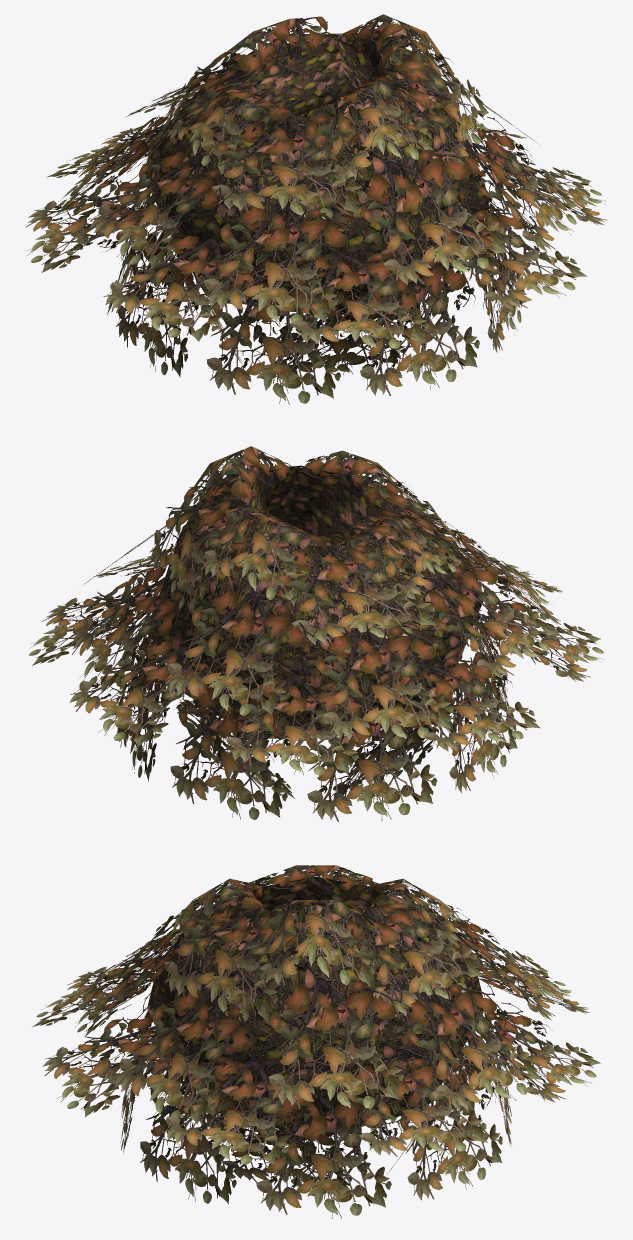
File: poi_all_lair_leaf_small_l1.fbx
3 views of the same model, one above another, from view 1: azimuth 30°, elevation 25°; view 2: azimuth 150°, elevation 25°; view 3: azimuth 270°, elevation 25° (orthographic). The views are drawn at different scales.
Parts seen in each view (by area): view 1: mesh_node; view 2: mesh_node; view 3: mesh_node.
Boxes of the visible parts, left/top/right/bottom form: mesh_node: left=26, top=14, right=606, bottom=404; mesh_node: left=29, top=446, right=603, bottom=821; mesh_node: left=32, top=865, right=600, bottom=1218.
Bounding box in the file's own units: 3.2 × 1.75 × 3.2.
2 materials, 2 textured.
